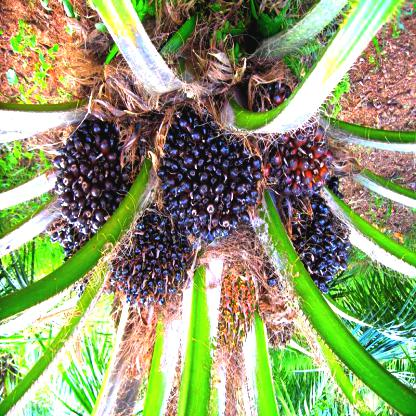palm-oil: (159, 106, 253, 240), (59, 121, 132, 231), (259, 79, 328, 195), (117, 214, 194, 306), (282, 198, 348, 290), (47, 221, 84, 264)
